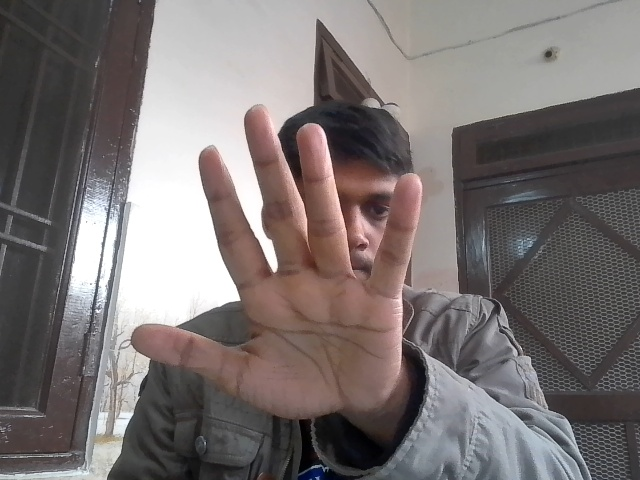Hello: (126, 99, 430, 439)
